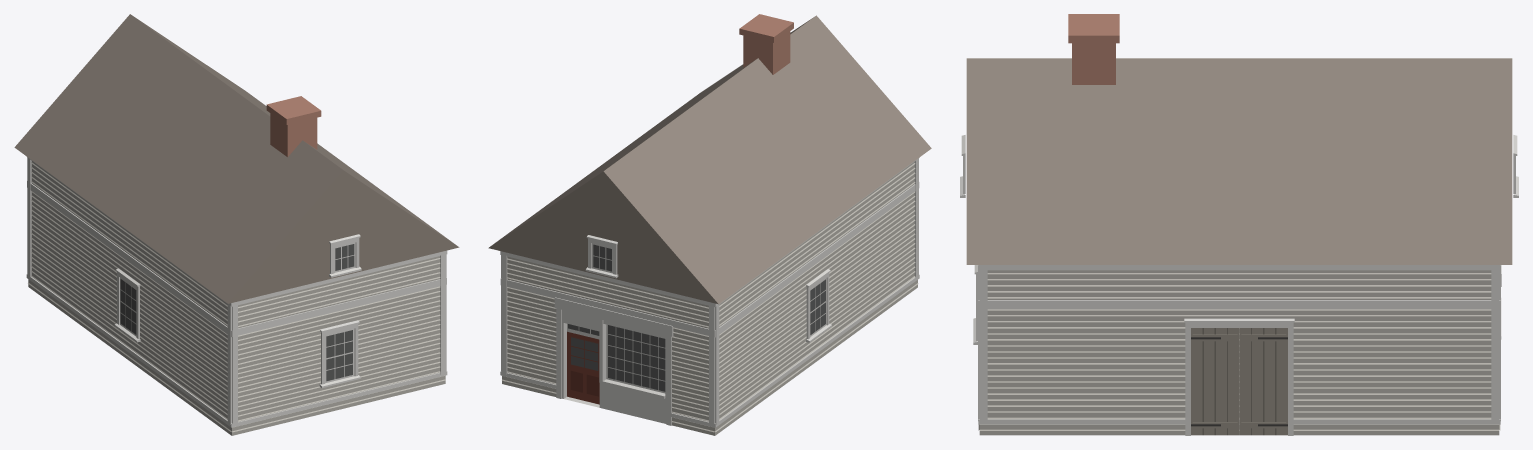
The model's file is recon_1835_core_c2_058__inferred_1835.glb.
3 renders of one model, left to right at view 1: azimuth 30°, elevation 25°; view 2: azimuth 150°, elevation 25°; view 3: azimuth 270°, elevation 25°, orthographic. The views are drawn at different scales.
Parts seen in each view (by area): view 1: recon_1835_core_c2_058__inferred_1835; view 2: recon_1835_core_c2_058__inferred_1835; view 3: recon_1835_core_c2_058__inferred_1835.
Boxes of the visible parts, left/top/right/bottom form: recon_1835_core_c2_058__inferred_1835: left=14, top=14, right=459, bottom=435; recon_1835_core_c2_058__inferred_1835: left=488, top=14, right=931, bottom=435; recon_1835_core_c2_058__inferred_1835: left=960, top=14, right=1518, bottom=435.
Size of the model in its own units: 6.52 by 7.26 by 10.68.
